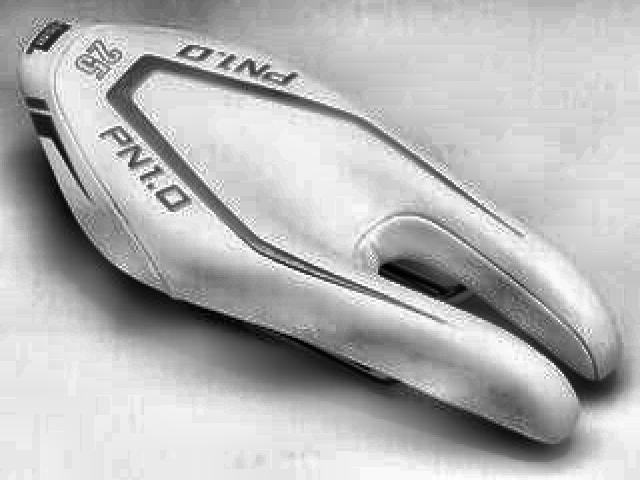saddle: (18, 6, 628, 446)
